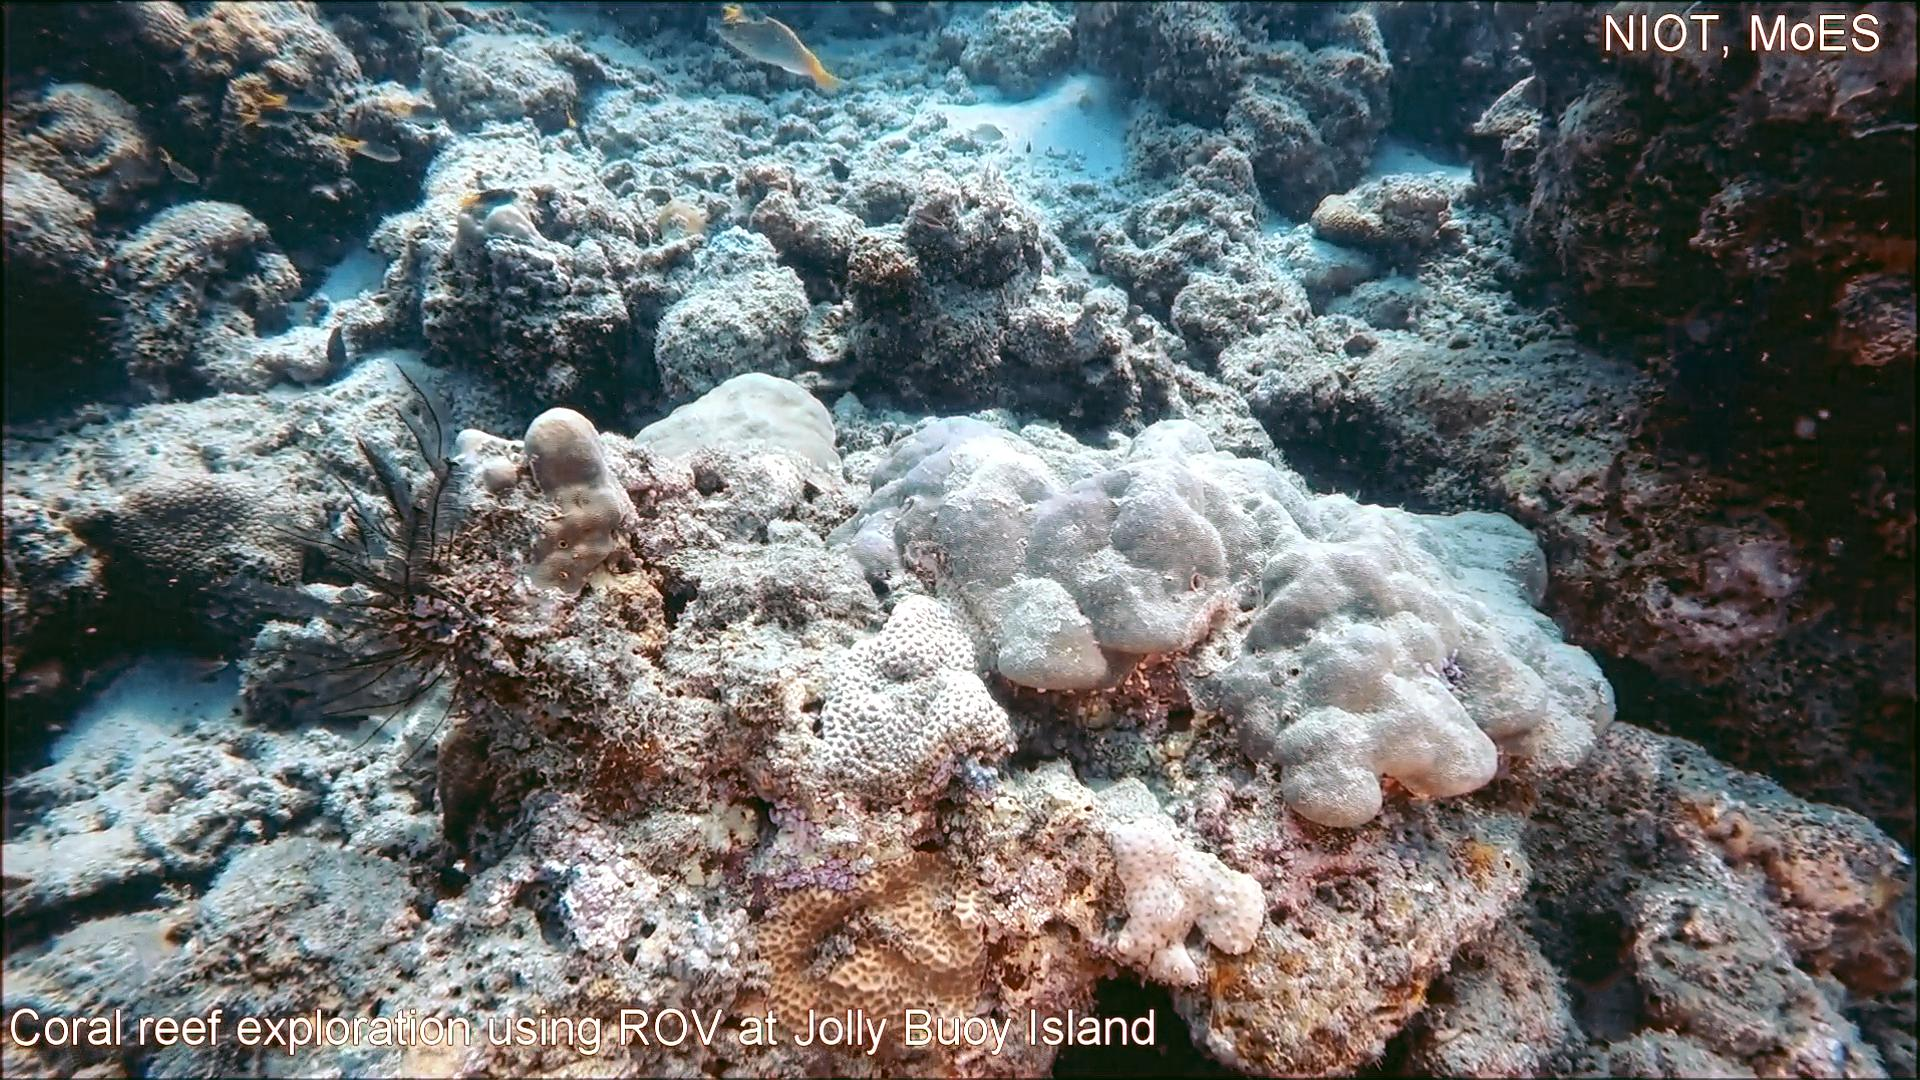Feather star-Crinoid star: (184, 358, 480, 773)
Goniastrea-Goniastrea pectinata: (814, 584, 1028, 818)
Porites-Porites pukoensis: (1110, 412, 1628, 831)
Turbinaria-Turbinaria stellulata: (100, 464, 313, 601)
